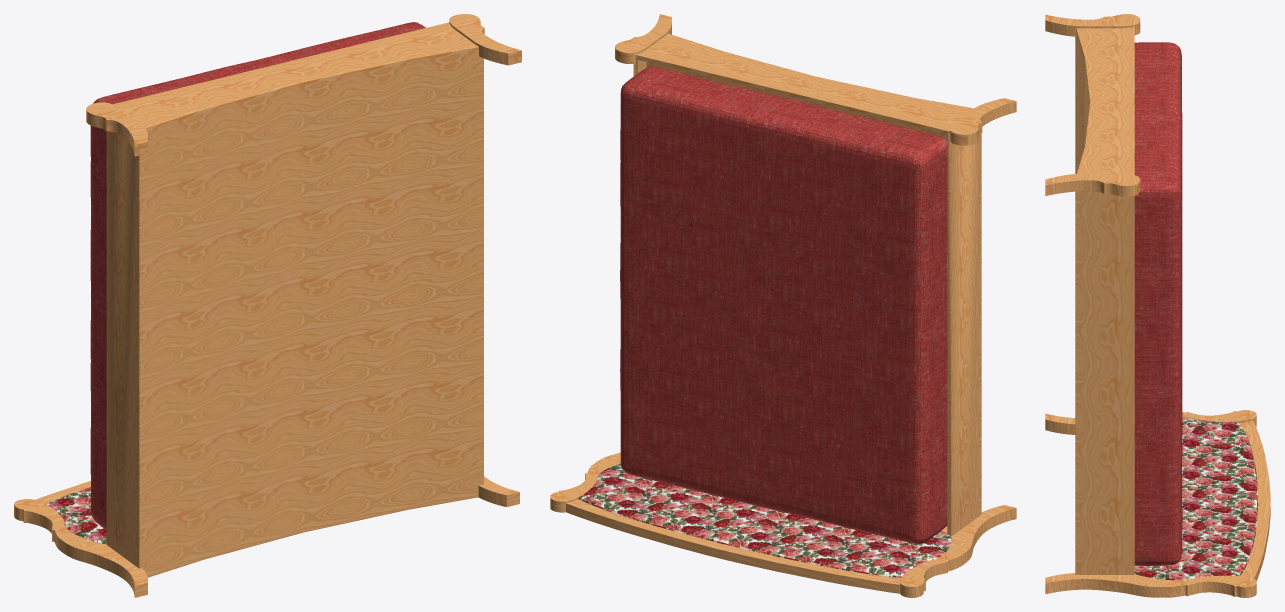
The model's file is Bed2.FBX.
3 views of the same model, side by side, from view 1: azimuth 30°, elevation 25°; view 2: azimuth 150°, elevation 25°; view 3: azimuth 270°, elevation 25° (orthographic). The views are drawn at different scales.
Visible parts, largest first — view 1: Line030; view 2: Line030; view 3: Line030.
Part boxes in pixels (left/top/right/bottom): Line030: left=14, top=14, right=521, bottom=597; Line030: left=550, top=14, right=1016, bottom=597; Line030: left=1045, top=14, right=1270, bottom=597.
Bounding box in the file's own units: 191 × 206 × 103.
Materials: 3 (3 with a texture image).
